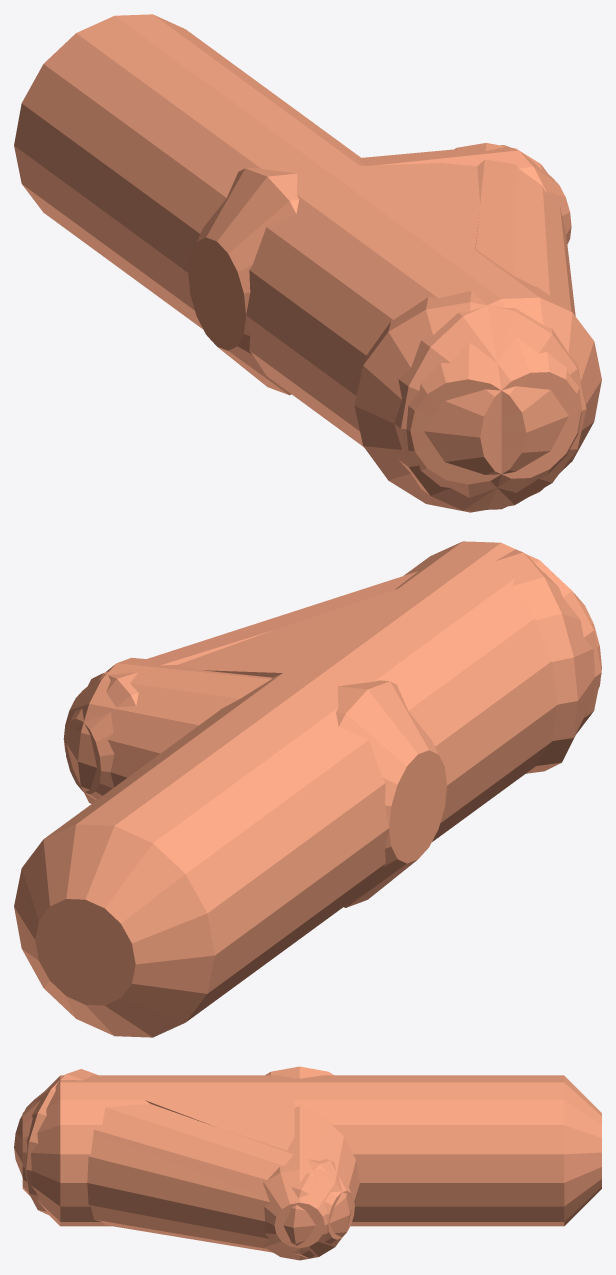
The model's file is _larm-human-thumb-yaw.glb.
3 renders of one model, top to bottom at view 1: azimuth 30°, elevation 25°; view 2: azimuth 150°, elevation 25°; view 3: azimuth 270°, elevation 25°, orthographic. The views are drawn at different scales.
Size of the model in its own units: 0.0527 by 0.03 by 0.1167.
